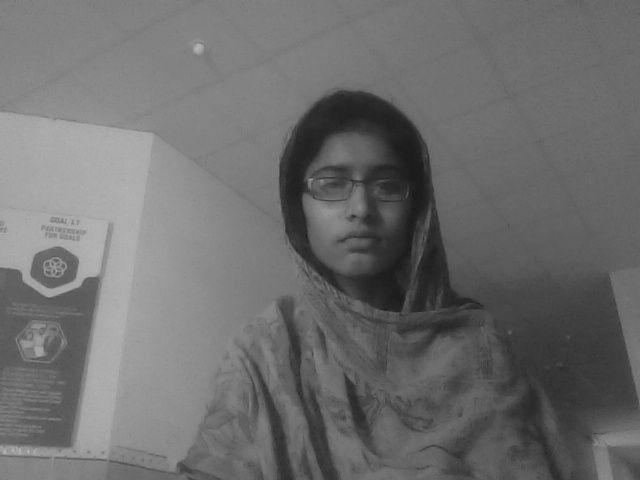Face: (122, 1, 540, 363)
